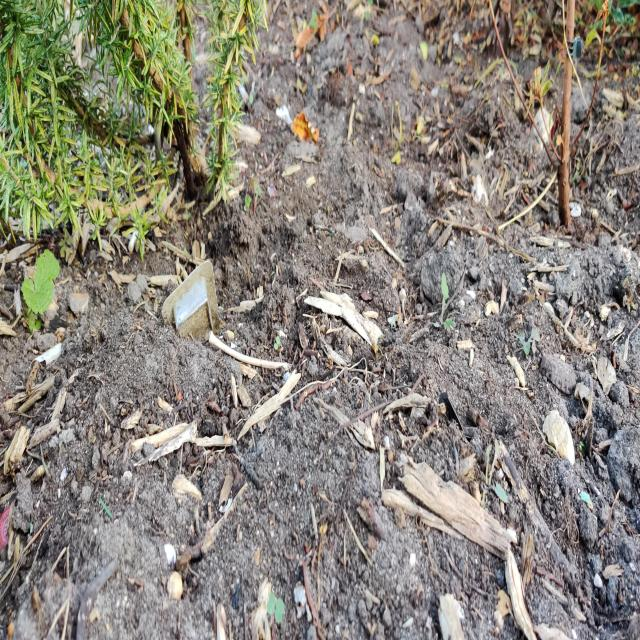litter: (162, 261, 221, 344), (565, 37, 581, 60)
